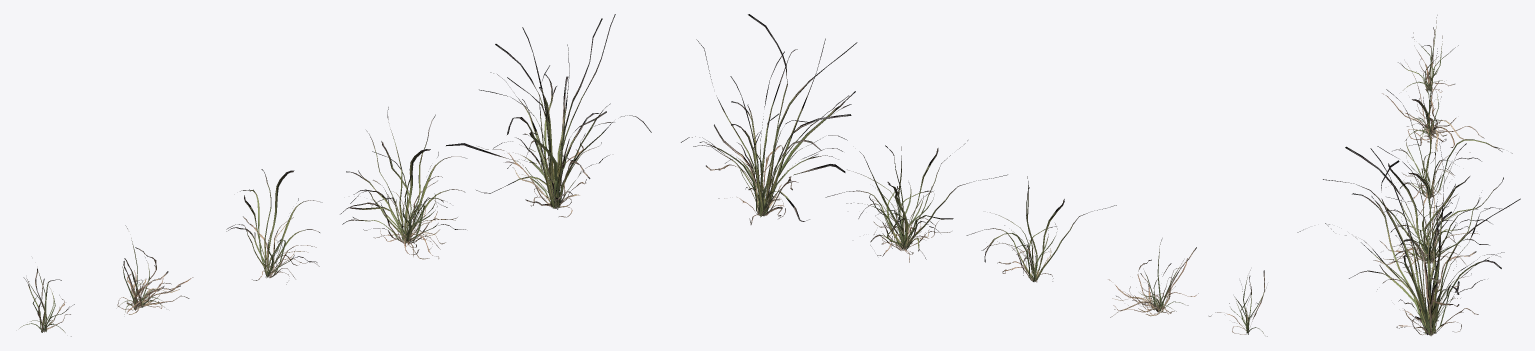
The model's file is grass_medium_02.glb.
3 renders of one model, left to right at view 1: azimuth 30°, elevation 25°; view 2: azimuth 150°, elevation 25°; view 3: azimuth 270°, elevation 25°, orthographic. The views are drawn at different scales.
Parts seen in each view (by area): view 1: grass_medium_02_a; view 2: grass_medium_02_a; view 3: grass_medium_02_a.
Part boxes in pixels (x1,y1,x2,y2): grass_medium_02_a: [19, 14, 651, 336]; grass_medium_02_a: [681, 14, 1267, 336]; grass_medium_02_a: [1297, 15, 1520, 335].
Size of the model in its own units: 1.31 by 0.4054 by 0.4332.
Materials: 1 (1 with a texture image).
